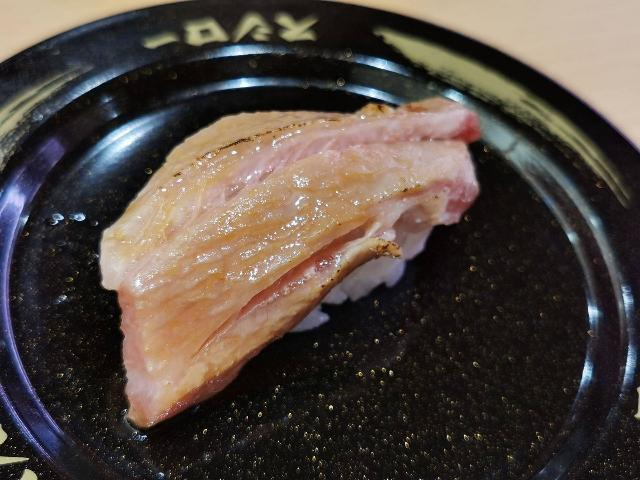janback: (481, 39, 640, 480), (0, 0, 483, 90), (2, 94, 107, 480), (110, 422, 481, 480), (344, 298, 484, 424)
